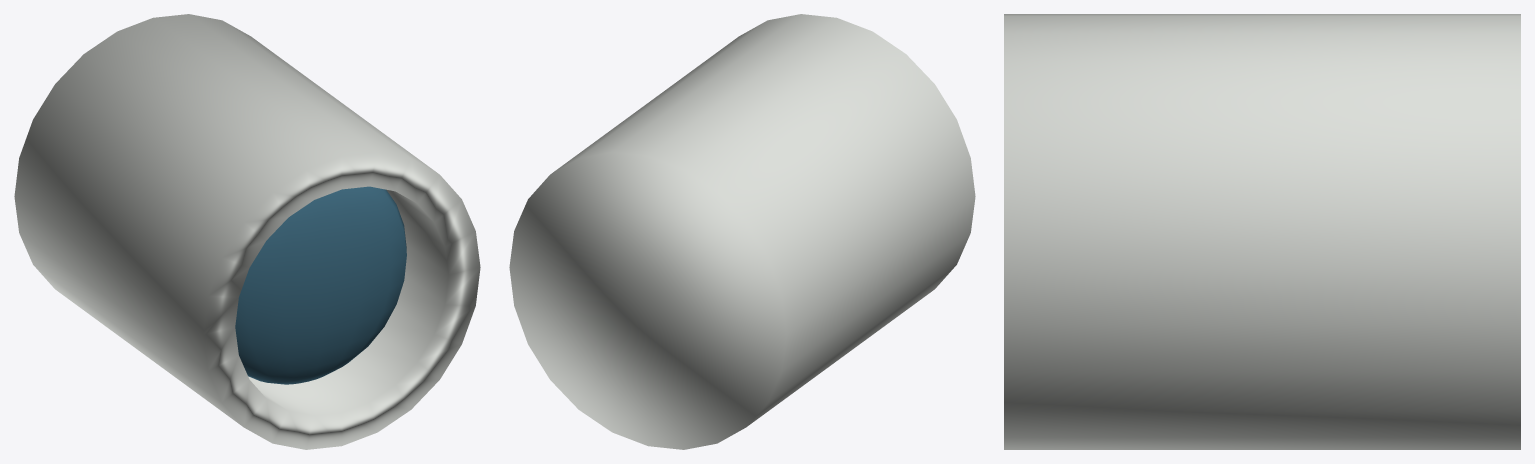
The model's file is voyager_scan_platform.boom.azimuth.elevation.wide_angle.glb.
3 views of the same model, side by side, from view 1: azimuth 30°, elevation 25°; view 2: azimuth 150°, elevation 25°; view 3: azimuth 270°, elevation 25° (orthographic). The views are drawn at different scales.
Visible parts, largest first — view 1: voyager_scan_platform.boom.azimuth.elevation.wide_angle.mesh, voyager_scan_platform.boom.azimuth.elevation.wide_angle.lens; view 2: voyager_scan_platform.boom.azimuth.elevation.wide_angle.mesh; view 3: voyager_scan_platform.boom.azimuth.elevation.wide_angle.mesh.
Boxes of the visible parts, x1,y1,x2,y2 form: voyager_scan_platform.boom.azimuth.elevation.wide_angle.mesh: (14, 14, 480, 449); voyager_scan_platform.boom.azimuth.elevation.wide_angle.lens: (235, 186, 406, 384); voyager_scan_platform.boom.azimuth.elevation.wide_angle.mesh: (509, 14, 975, 449); voyager_scan_platform.boom.azimuth.elevation.wide_angle.mesh: (1004, 14, 1520, 449).
Bounding box in the file's own units: 0.144 × 0.144 × 0.17.
